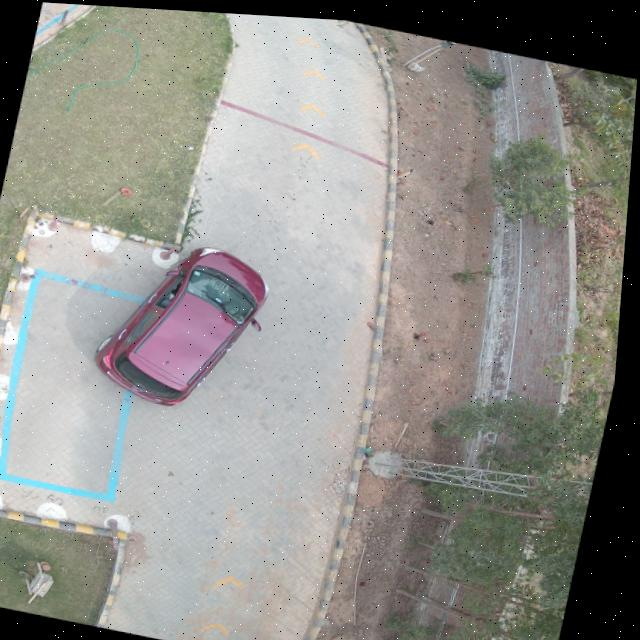car: (99, 245, 269, 405)
